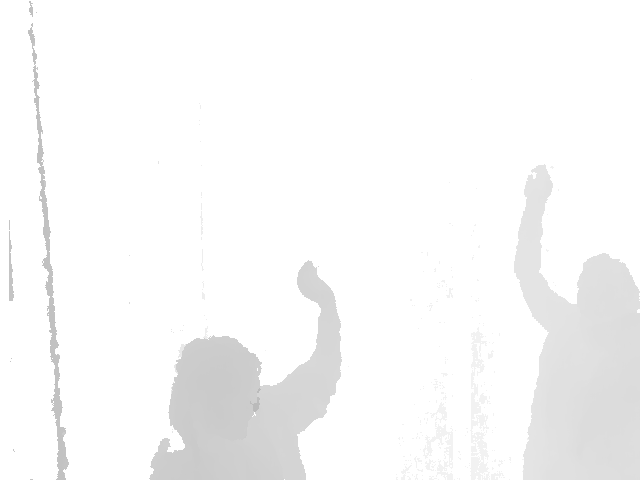hand: (297, 261, 337, 306), (524, 165, 554, 203)
head: (169, 336, 261, 445), (577, 254, 640, 324)
person: (145, 261, 341, 480), (513, 166, 640, 480)
